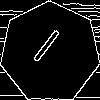I: (24, 27, 63, 72)
